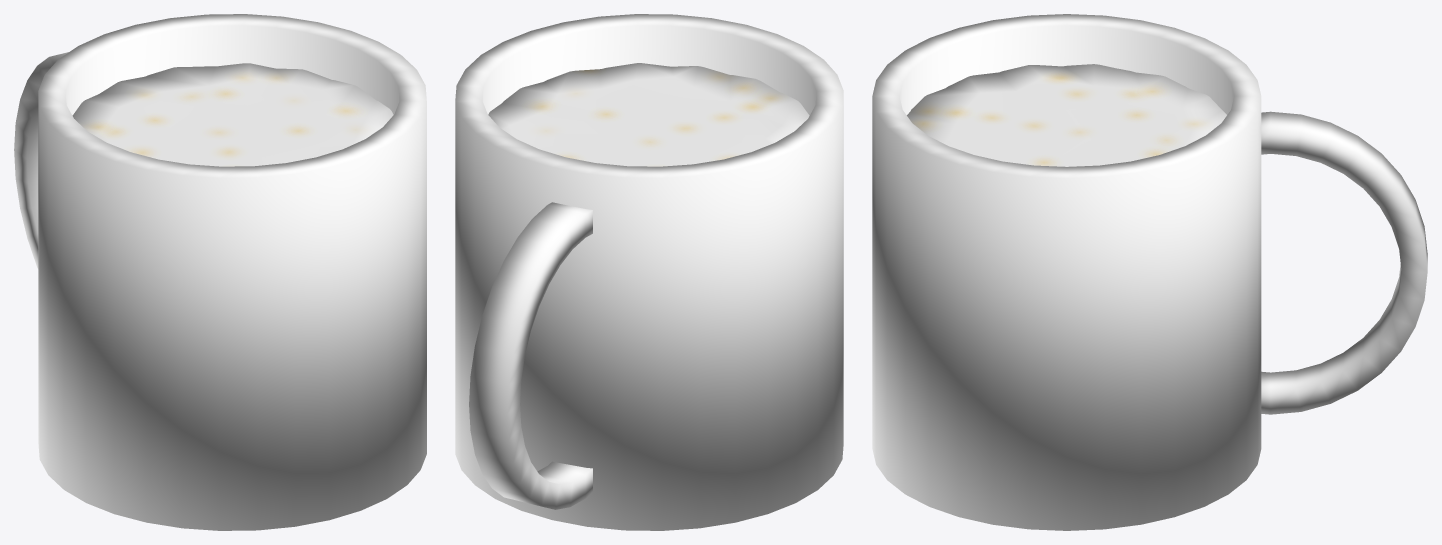
Rendered from milk_with_honey.gltf.
The picture shows the model from 3 angles, left to right: view 1: azimuth 30°, elevation 25°; view 2: azimuth 150°, elevation 25°; view 3: azimuth 270°, elevation 25°; orthographic projection.
Parts seen in each view (by area): view 1: Cylinder, Cylinder.001; view 2: Cylinder, Cylinder.001; view 3: Cylinder, Cylinder.001.
Boxes of the visible parts, x1,y1,x2,y2 form: Cylinder: (14, 14, 426, 530); Cylinder.001: (72, 63, 393, 166); Cylinder: (455, 14, 843, 530); Cylinder.001: (488, 63, 809, 166); Cylinder: (872, 14, 1427, 530); Cylinder.001: (907, 64, 1226, 166).
Size of the model in its own units: 2 by 2 by 2.85.
2 materials, 2 textured.
